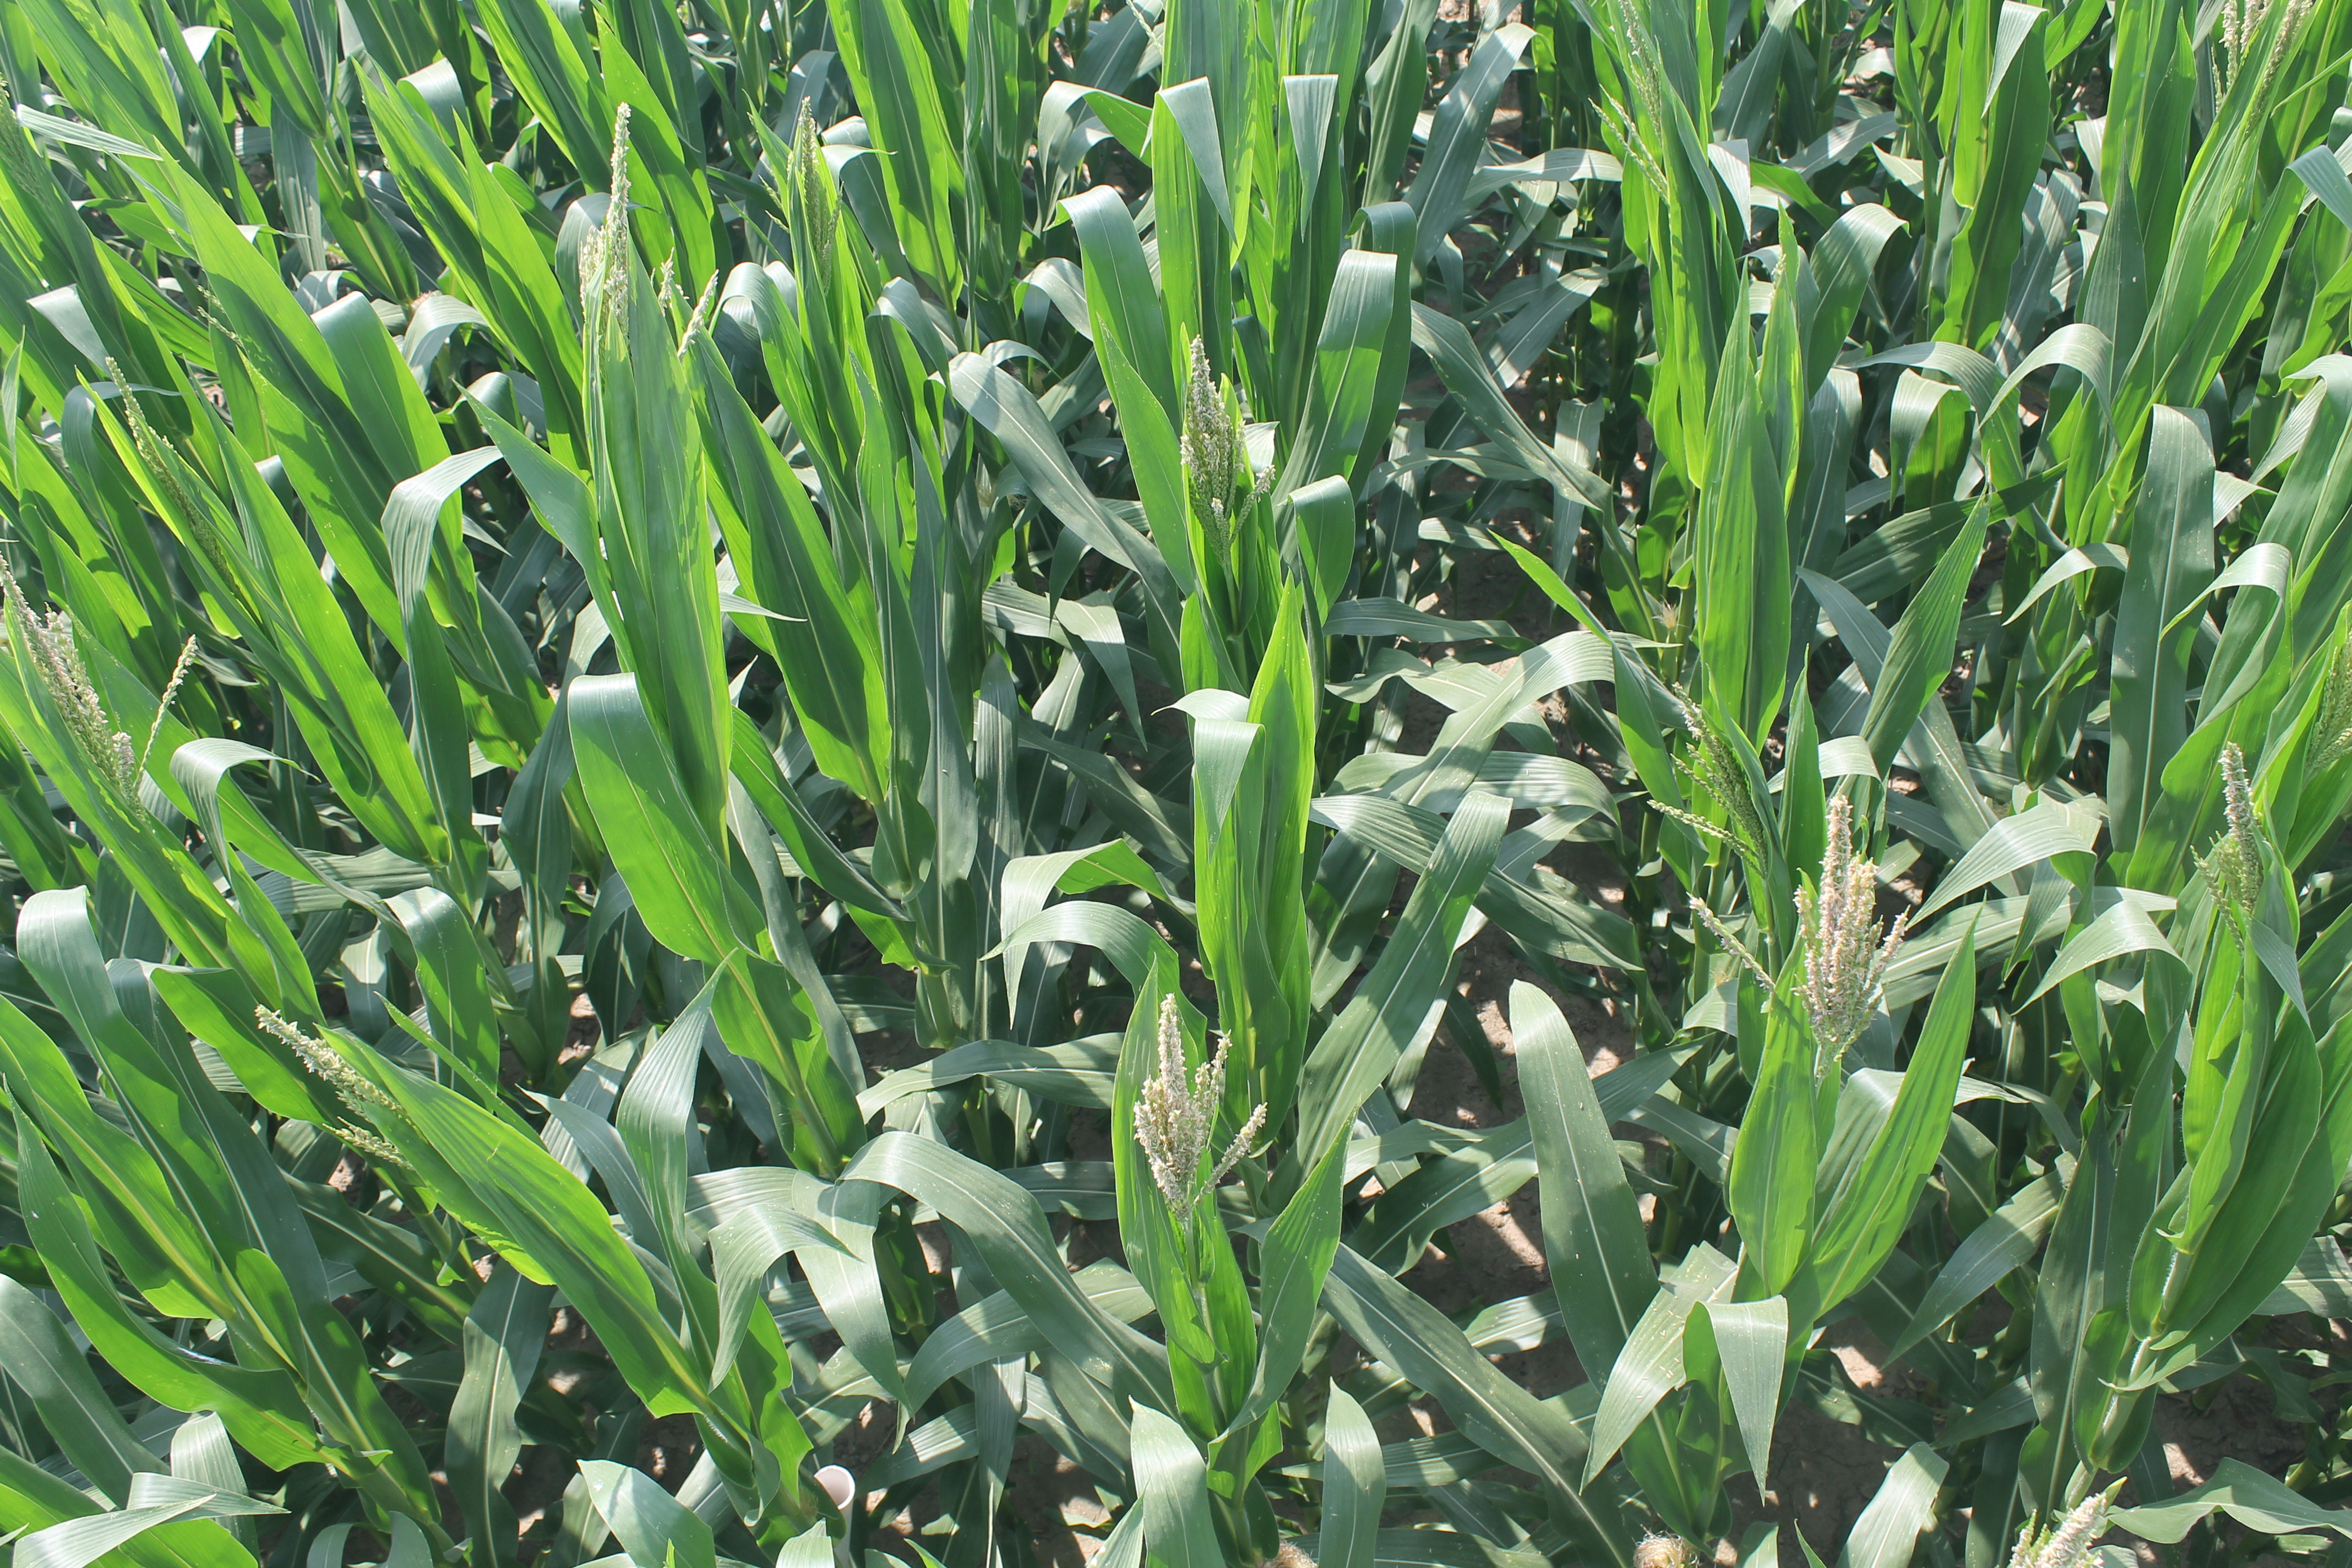Maize: (0, 551, 152, 803), (247, 999, 422, 1179), (1127, 987, 1272, 1204), (1794, 798, 1900, 1034), (1661, 679, 1771, 875), (563, 105, 661, 318), (2177, 738, 2273, 941), (1169, 331, 1262, 525), (2210, 0, 2306, 115), (2007, 1480, 2126, 1563), (2301, 637, 2352, 787)
